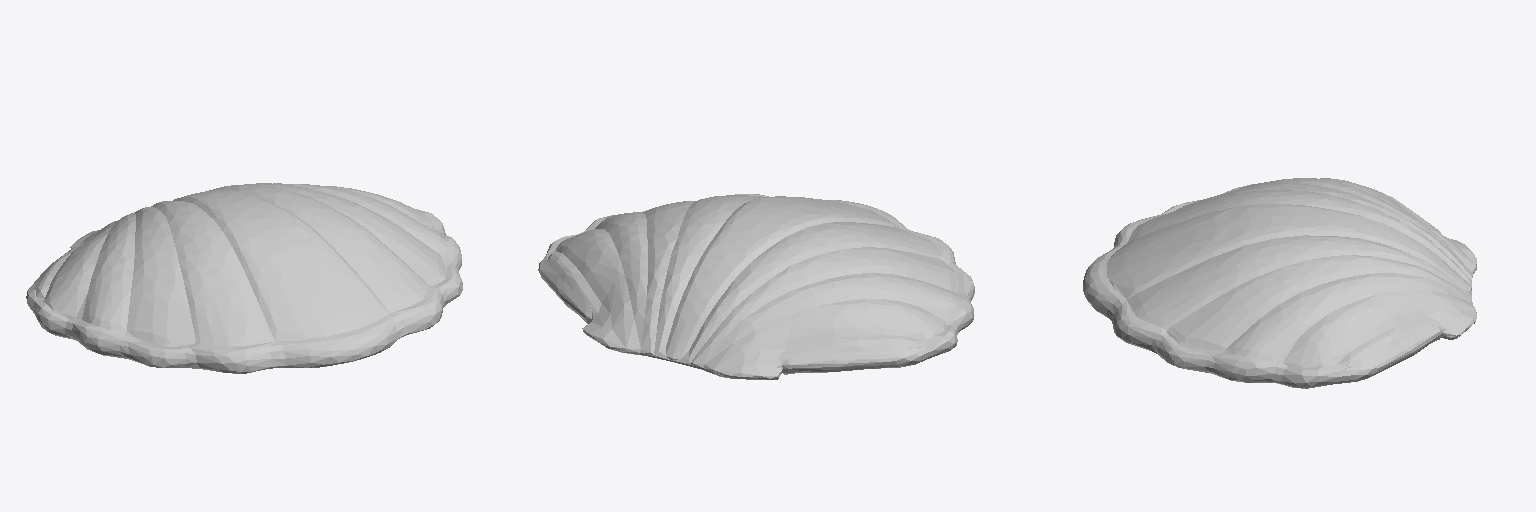
The model's file is clam_common_top.obj.
The picture shows the model from 3 angles: view 1: azimuth 30°, elevation 25°; view 2: azimuth 150°, elevation 25°; view 3: azimuth 270°, elevation 25°; orthographic projection.
Visible parts, largest first — view 1: clam_top; view 2: clam_top; view 3: clam_top.
Boxes of the visible parts, x1,y1,x2,y2 form: clam_top: [26, 183, 462, 373]; clam_top: [538, 194, 974, 379]; clam_top: [1083, 178, 1476, 388].
Size of the model in its own units: 13.2 by 2.52 by 11.27.